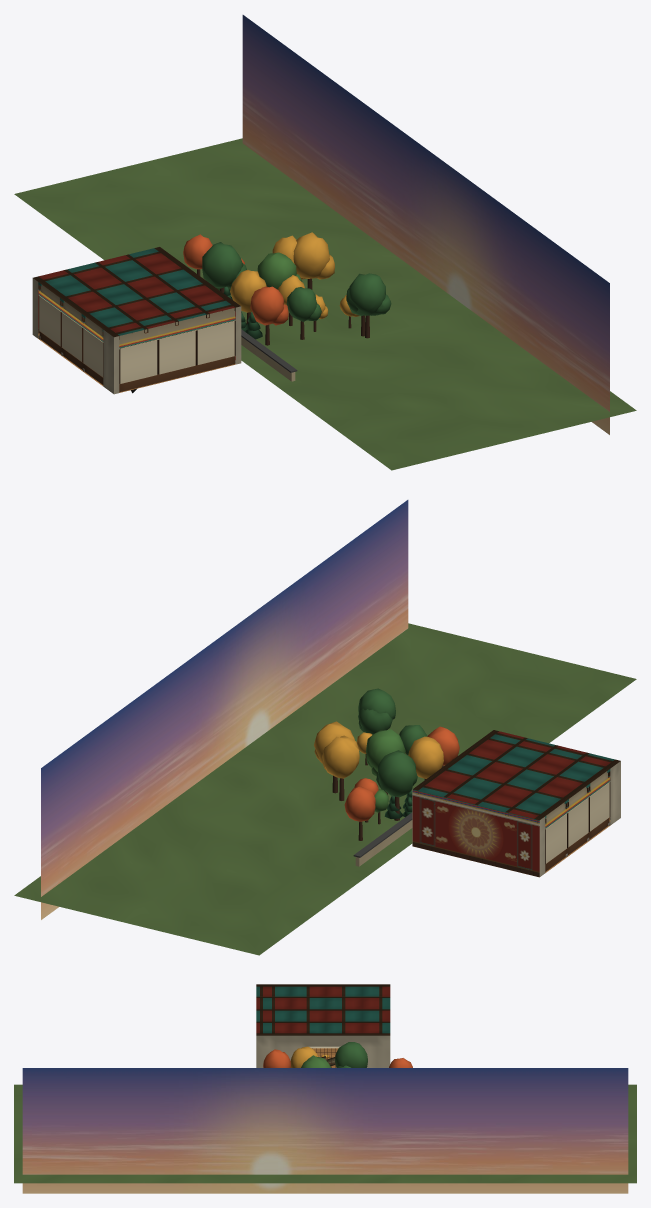
File: hall.glb
The picture shows the model from 3 angles, top to bottom: view 1: azimuth 30°, elevation 25°; view 2: azimuth 150°, elevation 25°; view 3: azimuth 270°, elevation 25°; orthographic projection. The views are drawn at different scales.
Visible parts, largest first — view 1: outdoor, sky, beams, structure, paper; view 2: outdoor, sky, beams, backdrop, structure, paper; view 3: sky, outdoor, beams, structure.
Boxes of the visible parts, bbox=[...] form: outdoor: bbox=[14, 138, 636, 470]; sky: bbox=[242, 15, 609, 434]; beams: bbox=[33, 247, 240, 339]; structure: bbox=[32, 278, 241, 394]; paper: bbox=[39, 296, 234, 383]; outdoor: bbox=[14, 623, 636, 955]; sky: bbox=[41, 500, 408, 919]; beams: bbox=[413, 730, 620, 824]; backdrop: bbox=[412, 789, 539, 877]; structure: bbox=[412, 761, 620, 876]; paper: bbox=[546, 783, 609, 863]; sky: bbox=[22, 1068, 628, 1193]; outdoor: bbox=[14, 1042, 636, 1183]; beams: bbox=[256, 984, 390, 1035]; structure: bbox=[256, 1035, 390, 1067].
Bounding box in the file's own units: 41.4 × 16.28 × 72.
6 materials, 5 textured.
